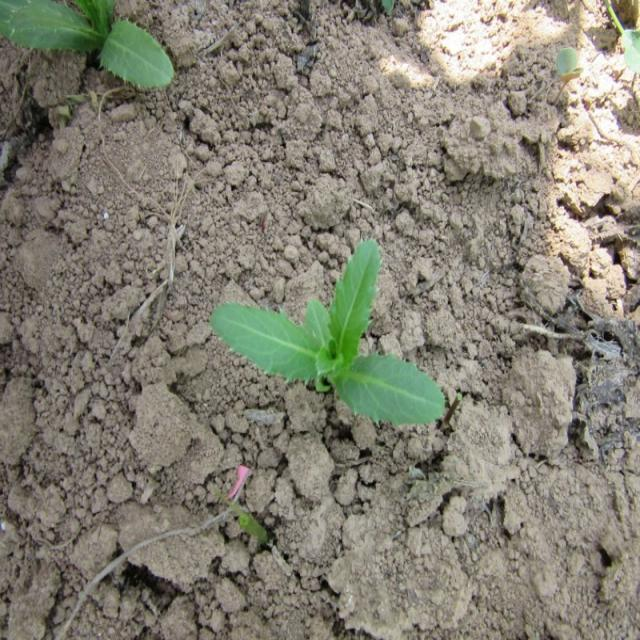field_thistle: (193, 228, 466, 432)
